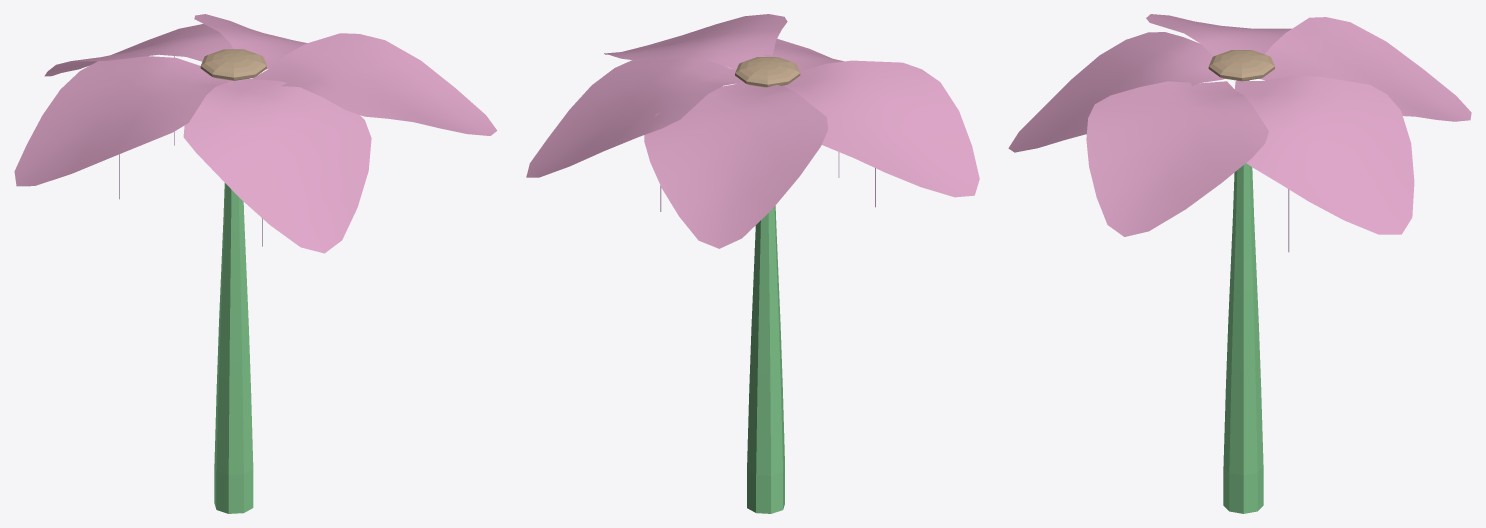
Rendered from lantaarn.fbx.
3 renders of one model, left to right at view 1: azimuth 30°, elevation 25°; view 2: azimuth 150°, elevation 25°; view 3: azimuth 270°, elevation 25°, orthographic.
Parts seen in each view (by area): view 1: pPlane3, pPlane7, pPlane4, polySurface17, pPlane6, pPlane5, pSphere54; view 2: pPlane6, pPlane7, pPlane5, polySurface17, pPlane4, pSphere54, pPlane3; view 3: pPlane4, pPlane5, polySurface17, pPlane6, pPlane3, pPlane7, pSphere54.
Boxes of the visible parts, box(x1,y1,x2,y2) form: pPlane3: box(183, 78, 371, 253); pPlane7: box(14, 56, 229, 186); pPlane4: box(252, 33, 497, 135); polySurface17: box(214, 183, 253, 513); pPlane6: box(44, 24, 234, 76); pPlane5: box(194, 14, 307, 69); pSphere54: box(200, 49, 266, 80); pPlane6: box(644, 81, 827, 248); pPlane7: box(782, 60, 979, 197); pPlane5: box(526, 58, 742, 177); polySurface17: box(747, 206, 784, 513); pPlane4: box(604, 14, 787, 69); pSphere54: box(735, 57, 800, 87); pPlane3: box(764, 38, 843, 71); pPlane4: box(1086, 81, 1268, 236); pPlane5: box(1234, 76, 1414, 234); polySurface17: box(1223, 80, 1263, 513); pPlane6: box(1259, 17, 1471, 121); pPlane3: box(1008, 32, 1224, 152); pPlane7: box(1146, 14, 1291, 56); pSphere54: box(1208, 50, 1274, 81).
Size of the model in its own units: 10.97 by 11.21 by 10.53.
